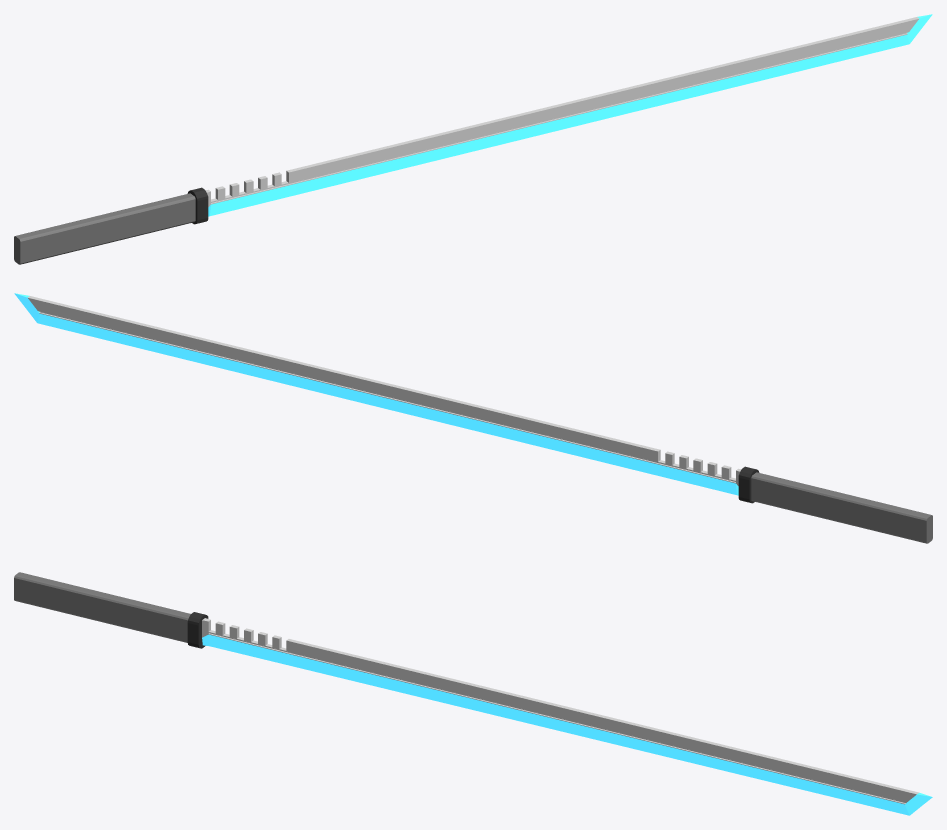
Rendered from Katana.fbx.
3 renders of one model, top to bottom at view 1: azimuth 30°, elevation 25°; view 2: azimuth 150°, elevation 25°; view 3: azimuth 330°, elevation 25°, orthographic.
Parts seen in each view (by area): view 1: Cube; view 2: Cube; view 3: Cube.
Boxes of the visible parts, x1,y1,x2,y2 form: Cube: [14, 14, 932, 264]; Cube: [14, 293, 932, 543]; Cube: [14, 572, 932, 815].
Size of the model in its own units: 1021 by 33.95 by 18.48.
